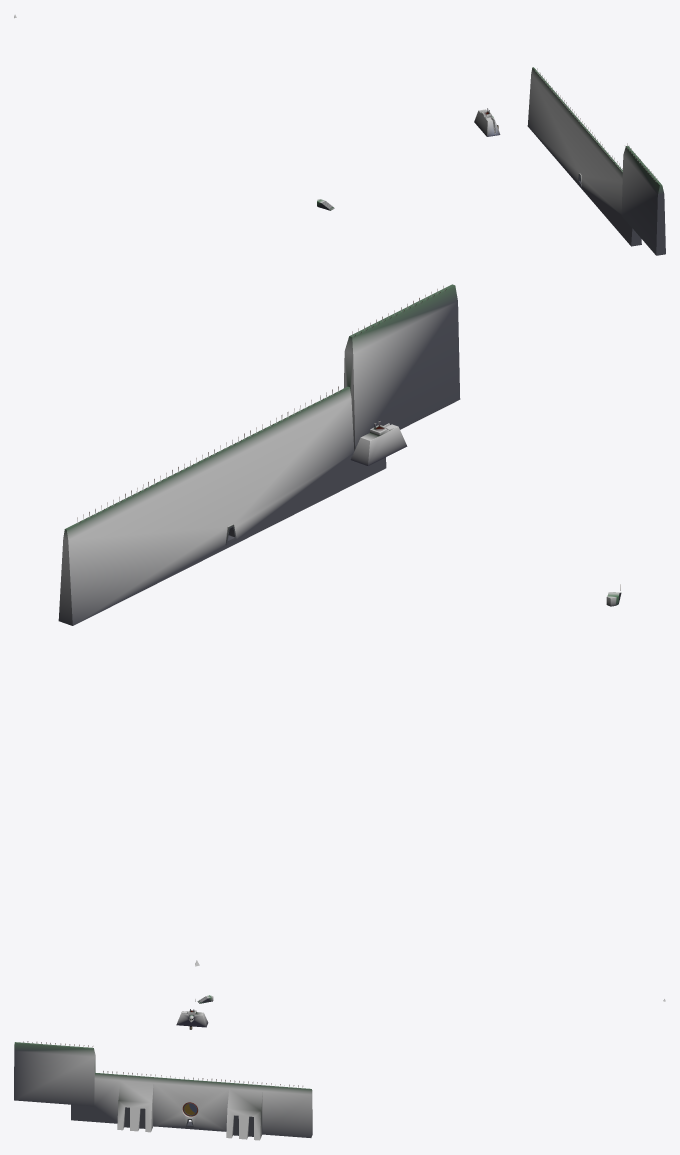
File: ANTIC-WALL.glb
3 renders of one model, top to bottom at view 1: azimuth 30°, elevation 25°; view 2: azimuth 150°, elevation 25°; view 3: azimuth 270°, elevation 25°, orthographic. The views are drawn at different scales.
Parts seen in each view (by area): view 1: 16-ANTIC-WALL; view 2: 16-ANTIC-WALL; view 3: 16-ANTIC-WALL.
Part boxes in pixels (box(x1,y1,x2,y2)): 16-ANTIC-WALL: box(14, 14, 665, 255); 16-ANTIC-WALL: box(58, 284, 621, 966); 16-ANTIC-WALL: box(14, 995, 665, 1140).
Bounding box in the file's own units: 183 × 55.79 × 410.
